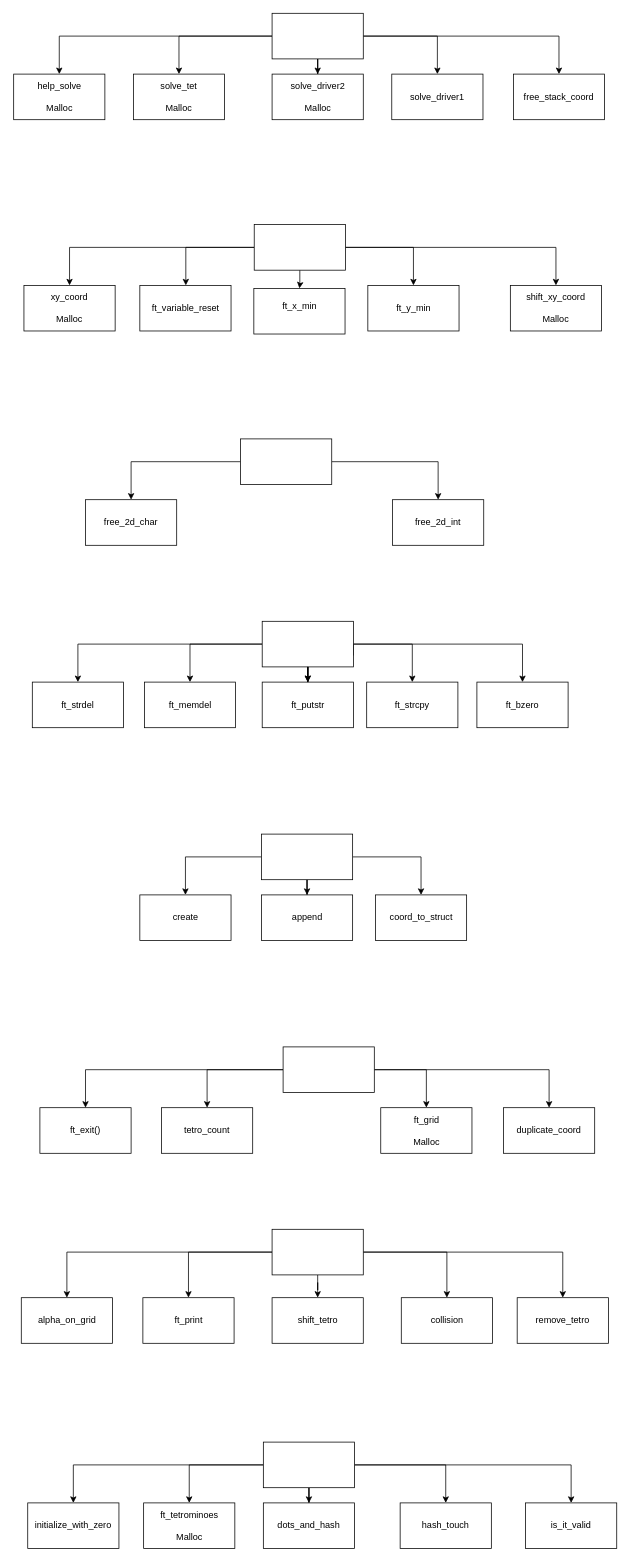
The diagram is 630 pixels wide and 1562 high, and some of its shapes have lost their labels. The shapes that lost their labels are listed below. From the top down, each one's centre as x and y in pixels, then its label:
(317,36): backtracker.c
(299,247): coordinate.c
(286,461): free_functions.c
(307,644): libft.c
(307,856): linked_list.c
(328,1069): maintain1.c
(317,1252): maintain2.c
(309,1464): Valid.c
